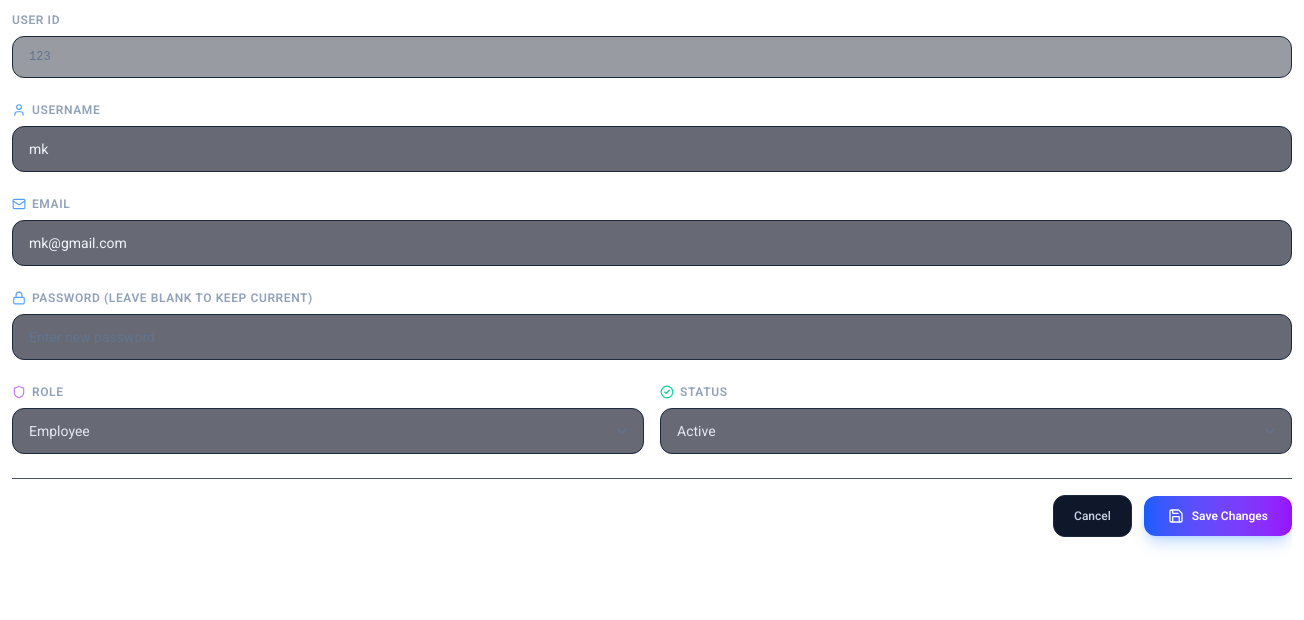
it: Edit User › shall not update user and gives error
Replace the text in the field with placeholder "Enter username" with "immk" at (652, 149), box [12, 126, 1292, 172]
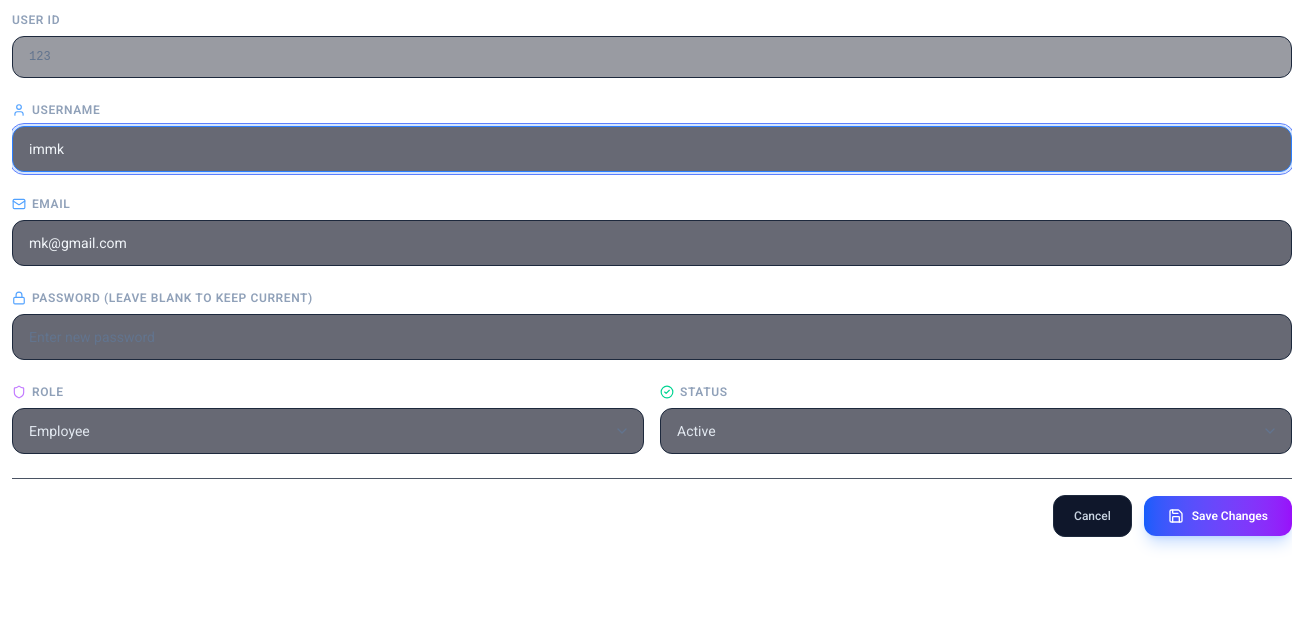
Click the button "Save Changes" at (1218, 516), box [1144, 496, 1292, 536]
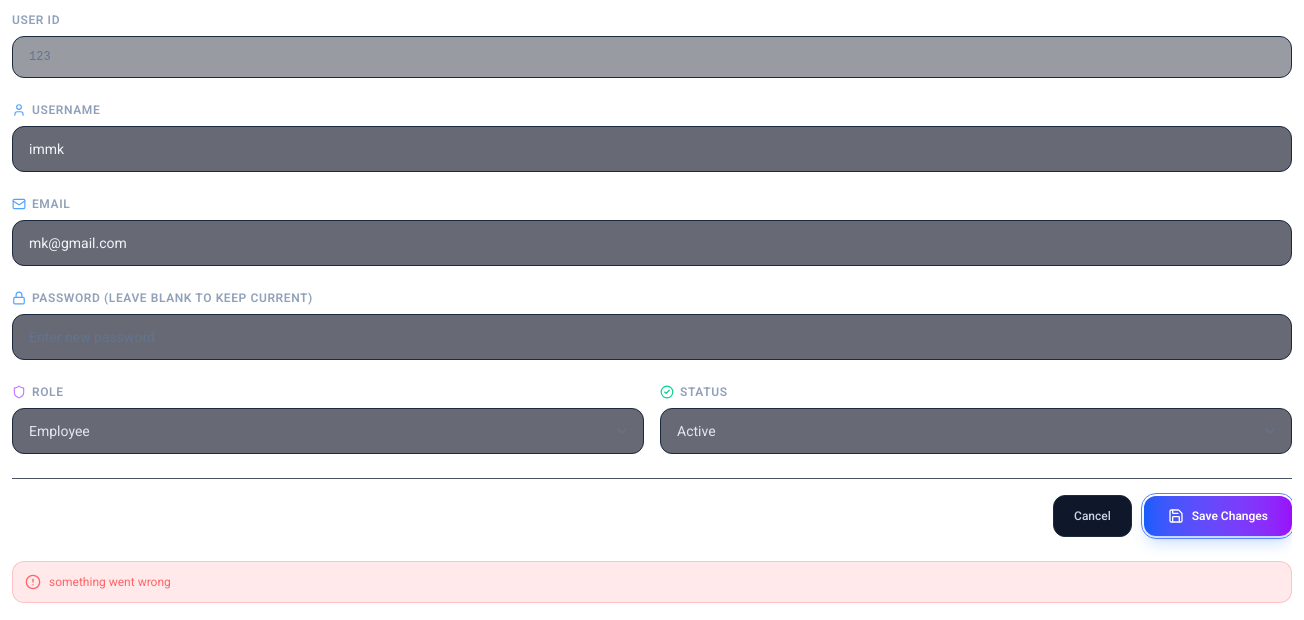
Expected: the text "something went wrong" is shown, [49, 574, 171, 590]
